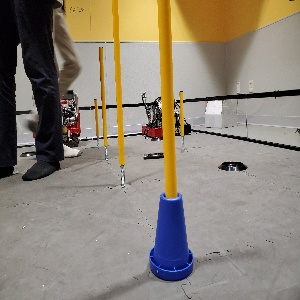Blue_1: (147, 191, 194, 282)
